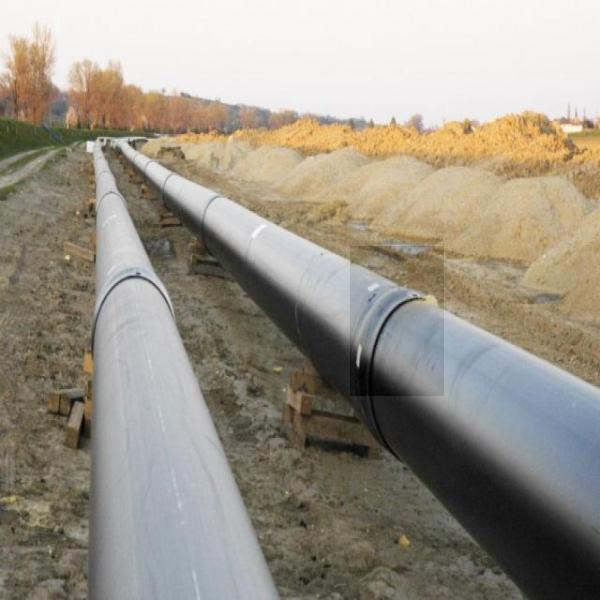crack: (350, 246, 444, 396)
